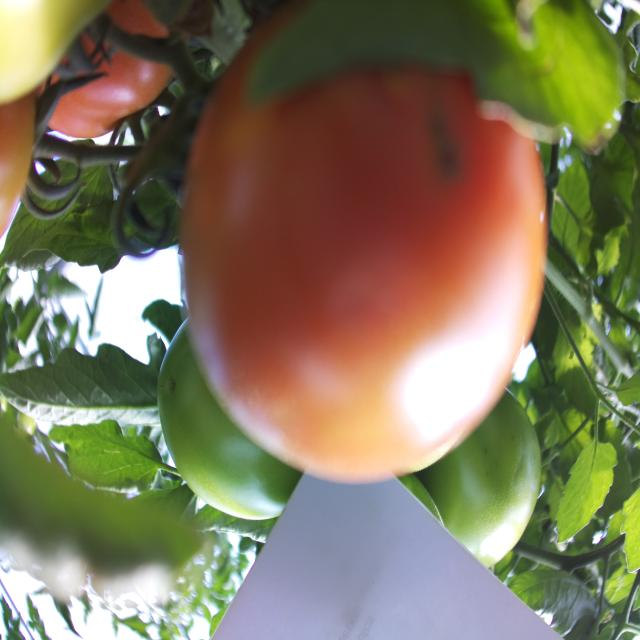kirmizi: (164, 52, 543, 432)
